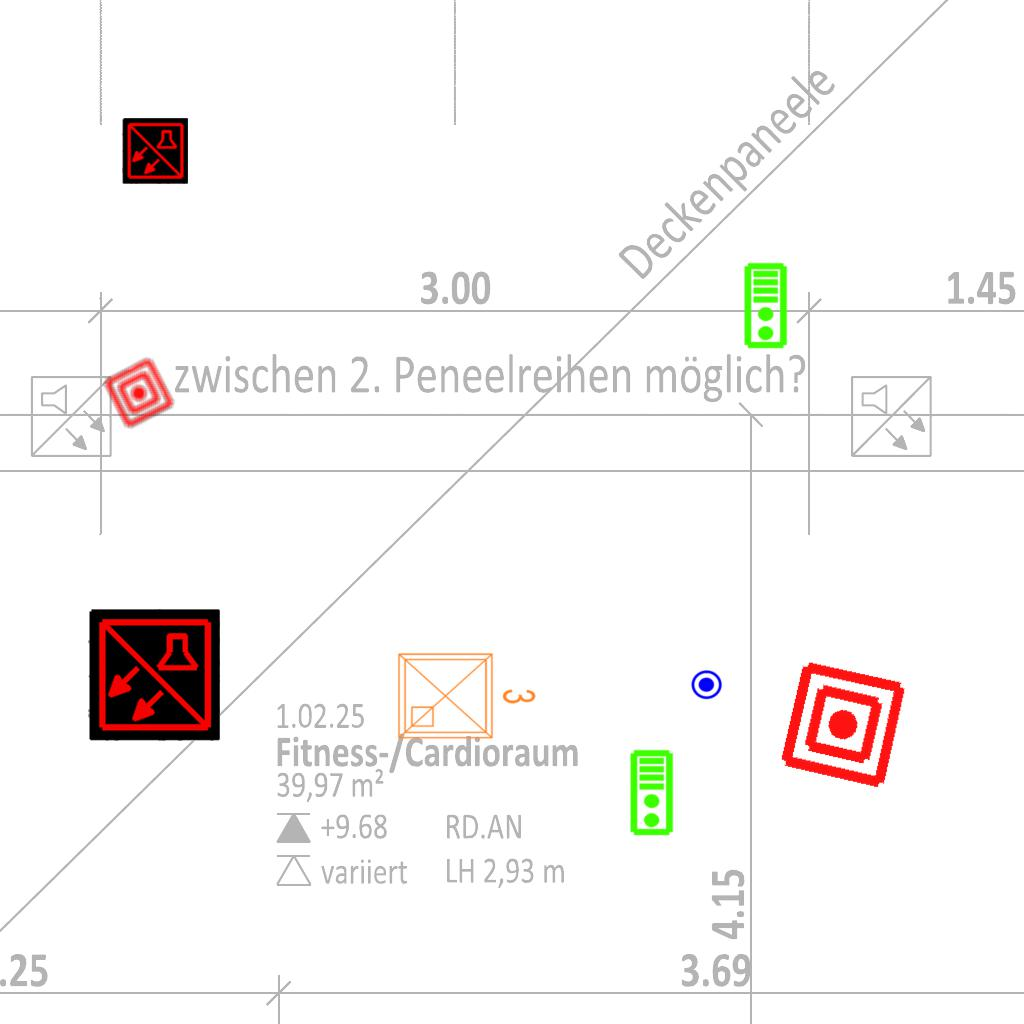Einbaudownlights_LED_Konferenzraeume: (391, 642, 541, 746)
Gegensprechanlage_mit_Video: (743, 262, 790, 350), (629, 749, 676, 837)
NAM-Nichtautomatischer_Melder: (775, 656, 912, 793), (101, 355, 177, 431)
OKW_Multisensormelder_(Kombination_optischer_Rauch-Kahlenmonoxid_Waerme-Melder): (88, 609, 220, 741), (122, 118, 188, 184)
Taster: (690, 667, 723, 700)
